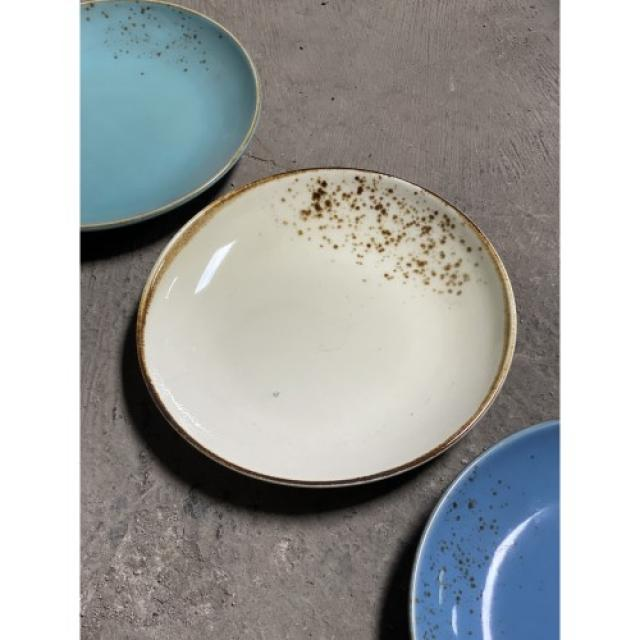Plate: (121, 150, 524, 512)
